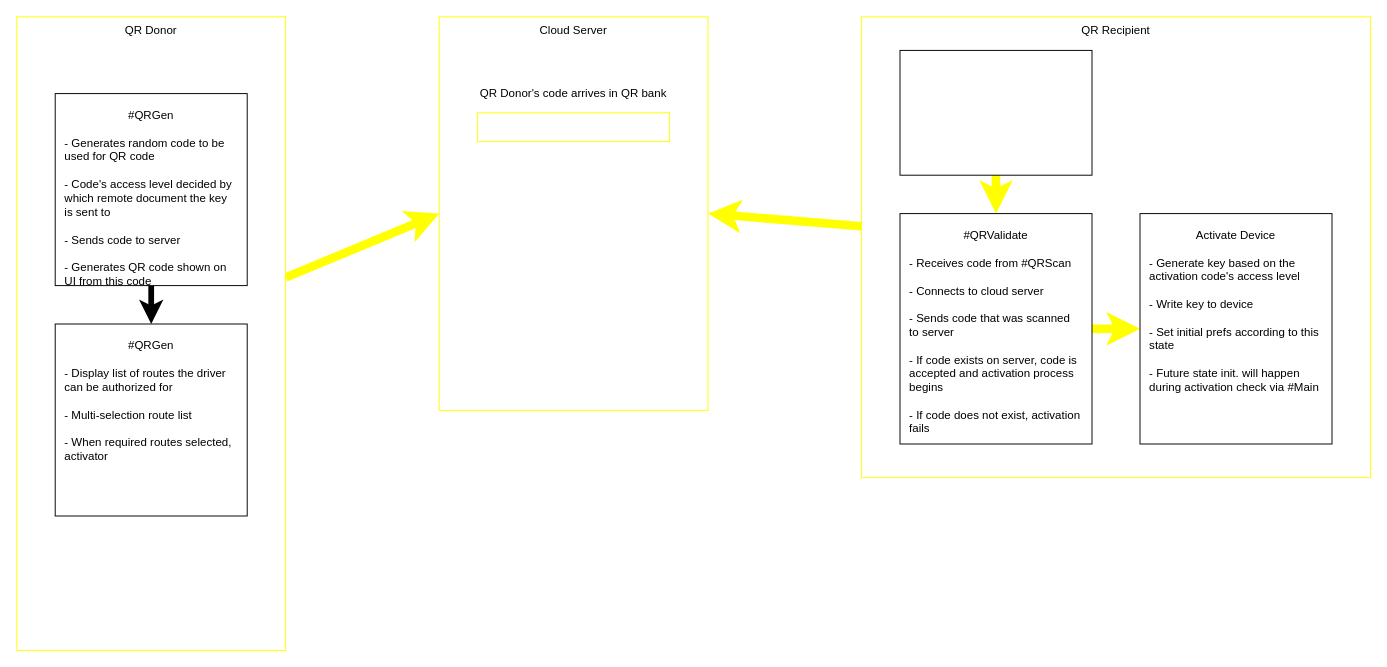
Some shapes in this 1387 by 667 pixel diagram are drawn without their labels. Here are the shapes that lost their labels. From the top down, the centre of each, then its label:
the point at 573,127: hYisgGfd9ksdf0ybfdsk
the point at 995,112: #QRScan - Opens camera for QR code scanning - Obtains code from camera input
